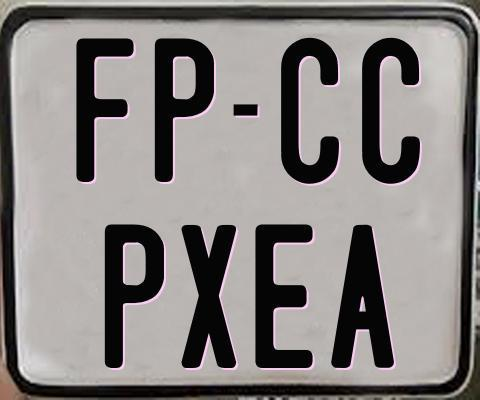A: (330, 225, 394, 374)
C: (360, 35, 423, 181), (279, 35, 340, 182)
E: (253, 224, 313, 372)
F: (75, 35, 137, 181)
P: (152, 35, 214, 180), (105, 221, 165, 370)
X: (181, 223, 242, 369)
